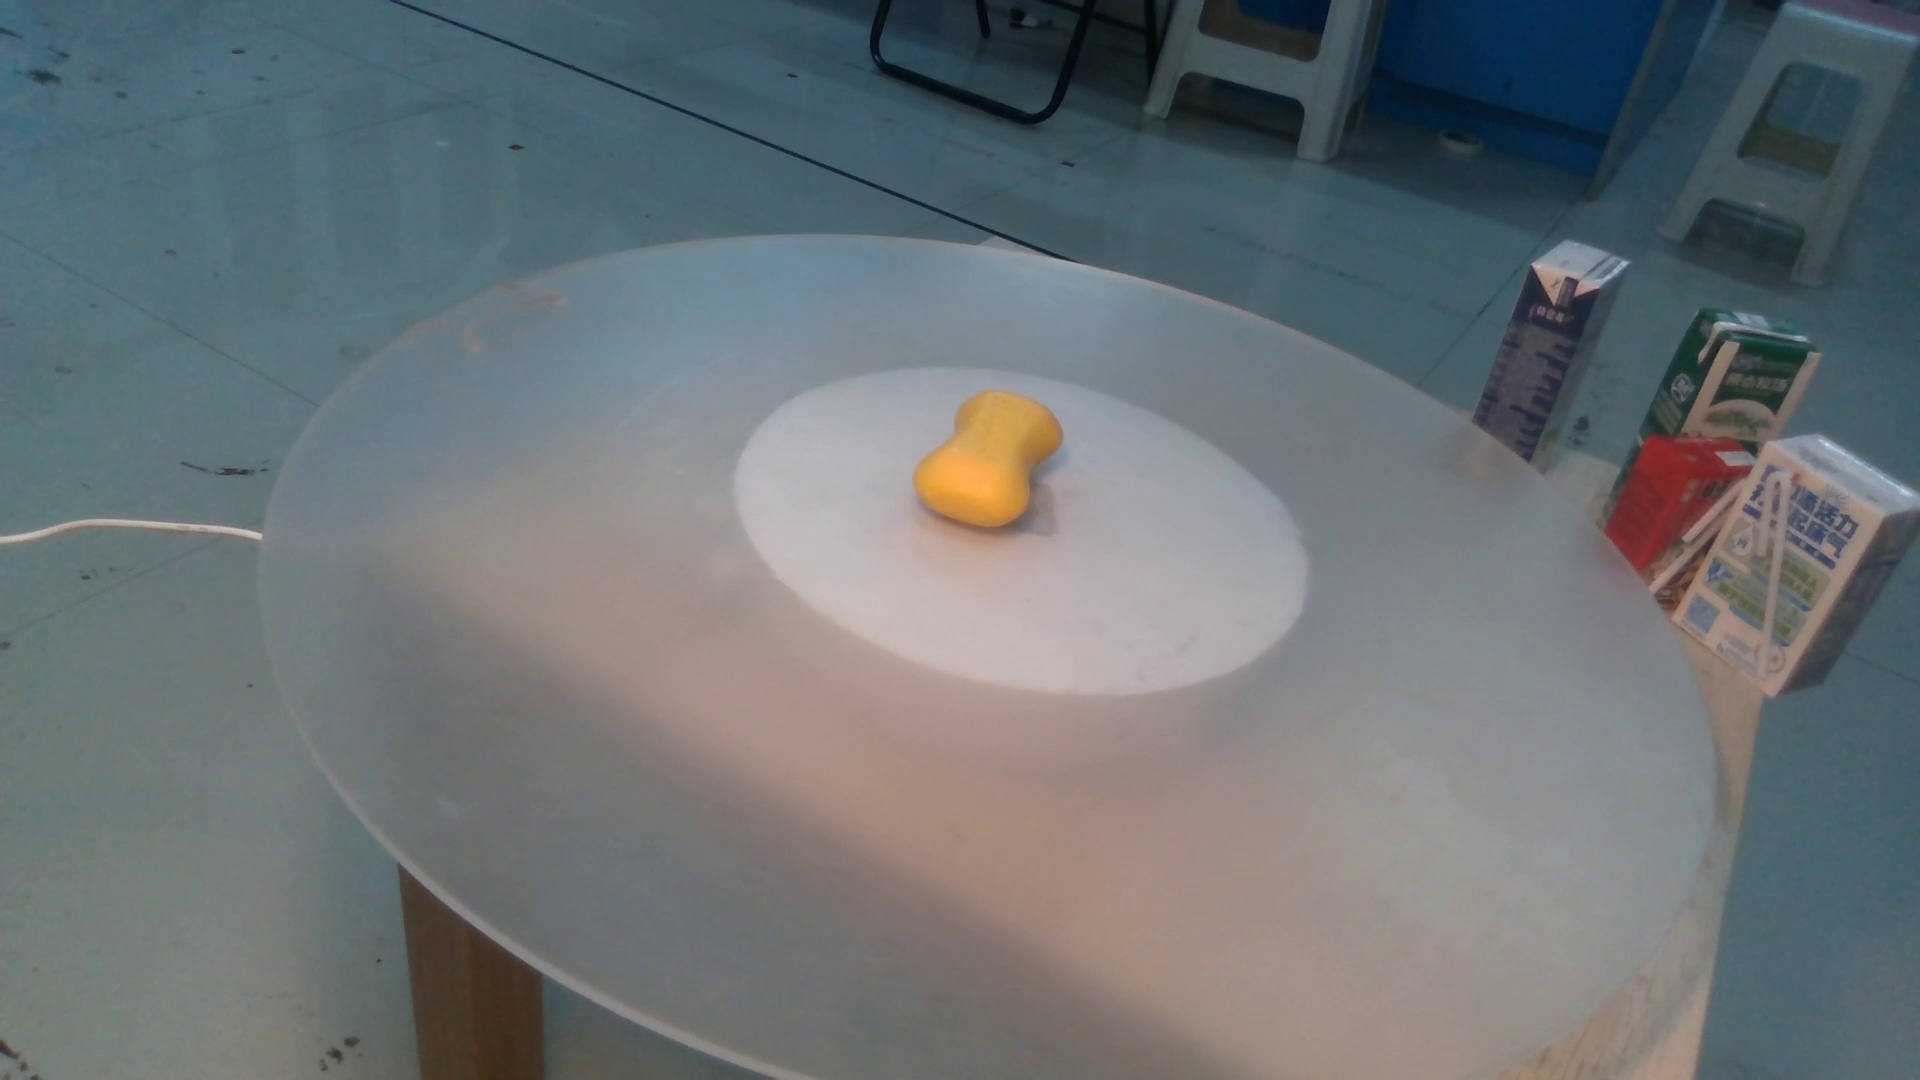CA003_1: (884, 385, 1120, 531)
